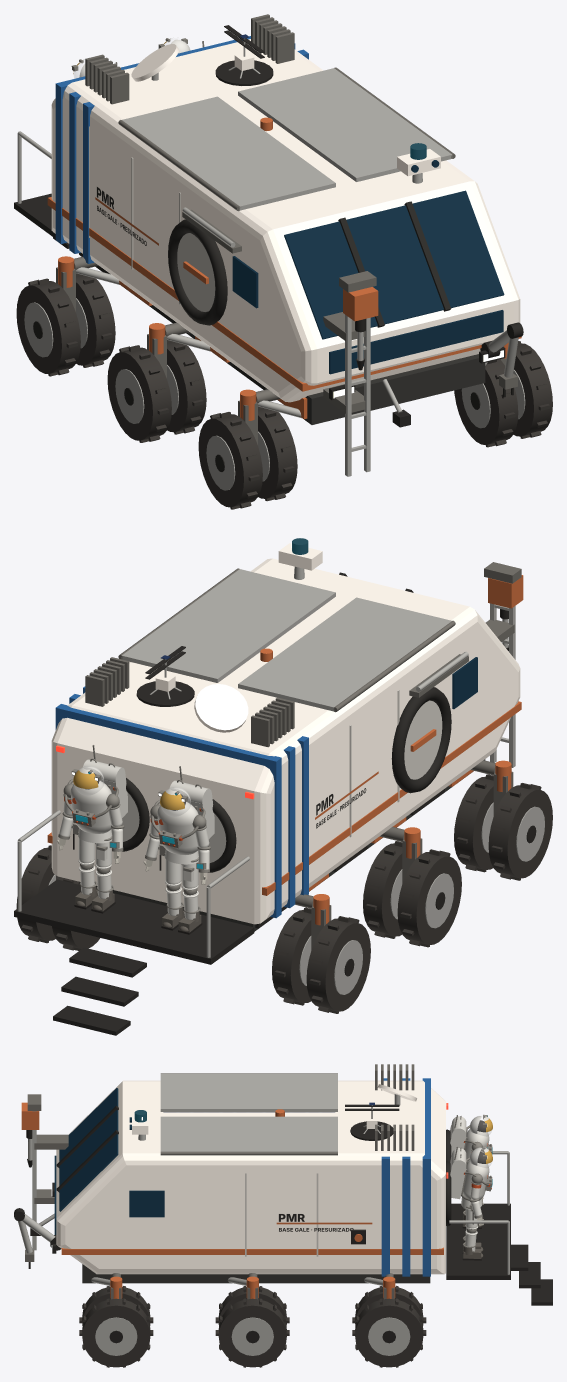
File: pmr.glb
3 views of the same model, one above another, from view 1: azimuth 30°, elevation 25°; view 2: azimuth 150°, elevation 25°; view 3: azimuth 270°, elevation 25° (orthographic). The views are drawn at different scales.
Parts seen in each view (by area): view 1: pmr, cabina, ala_0, ala_1, rueda_3, rueda_5, rueda_1, rueda_7, rueda_0, rueda_2, rueda_4, torre (+6 smaller); view 2: cabina, pmr, ala_0, ala_1, rueda_1, rueda_5, rueda_3, rueda_0, rueda_2, rueda_4, rueda_10, torre (+8 smaller); view 3: cabina, pmr, ala_1, ala_0, rueda_6, rueda_8, rueda_10, brazo, rueda_7, rueda_11, rueda_9, torre (+4 smaller).
Boxes of the visible parts, x1,y1,x2,y2 form: pmr: (14, 14, 521, 427); cabina: (51, 39, 520, 402); ala_0: (118, 96, 335, 211); ala_1: (238, 67, 455, 181); rueda_3: (107, 345, 171, 442); rueda_5: (16, 278, 80, 376); rueda_1: (198, 412, 262, 509); rueda_7: (454, 359, 518, 447); rueda_0: (258, 406, 297, 501); rueda_2: (167, 340, 206, 434); rueda_4: (76, 273, 115, 367); torre: (339, 271, 376, 476); cabina: (51, 558, 520, 924); pmr: (14, 543, 521, 1035); ala_0: (238, 597, 455, 712); ala_1: (118, 568, 335, 682); rueda_1: (488, 783, 552, 880); rueda_5: (306, 916, 370, 1013); rueda_3: (397, 849, 461, 947); rueda_0: (454, 774, 493, 872); rueda_2: (363, 841, 402, 938); rueda_4: (272, 907, 311, 1005); rueda_10: (16, 845, 55, 943); torre: (484, 562, 521, 767); cabina: (56, 1080, 445, 1274); pmr: (30, 1064, 552, 1305); ala_1: (160, 1116, 337, 1155); ala_0: (160, 1073, 337, 1112); rueda_6: (79, 1298, 153, 1367); rueda_8: (215, 1298, 289, 1367); rueda_10: (352, 1298, 426, 1367); brazo: (14, 1208, 61, 1268); rueda_7: (79, 1286, 153, 1325); rueda_11: (352, 1285, 426, 1326); rueda_9: (215, 1286, 289, 1325); torre: (27, 1094, 41, 1250).
Size of the model in its own units: 3.96 by 3.62 by 7.9.
Materials: 26 (2 with a texture image).
